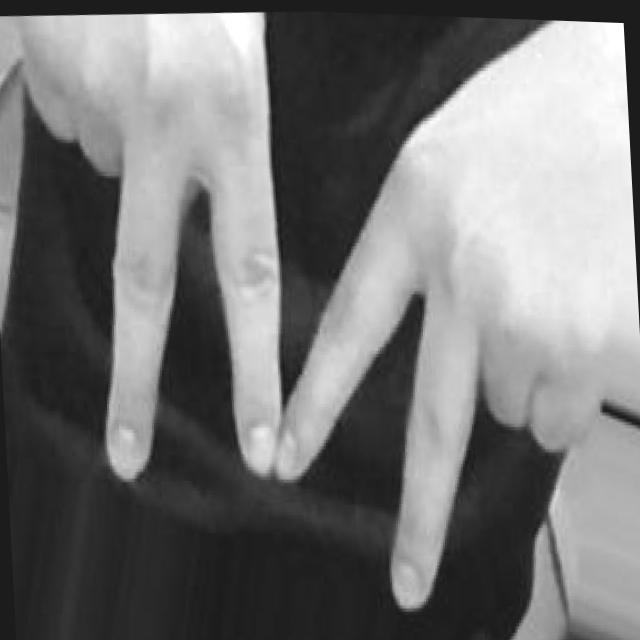M: (23, 1, 640, 639)
